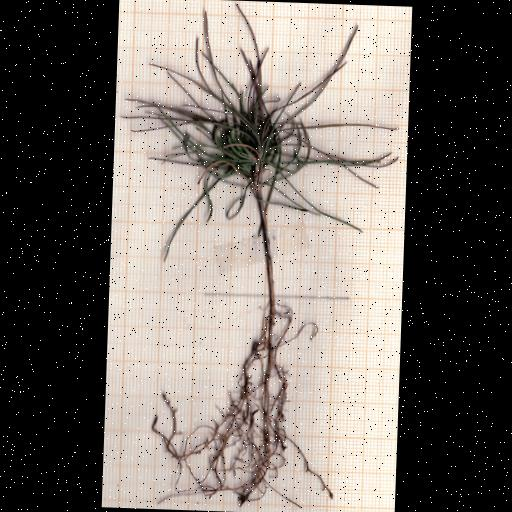flowerCedr: (135, 5, 396, 259)
rootCedr: (149, 307, 332, 506)
stemCedr: (257, 199, 275, 315)
